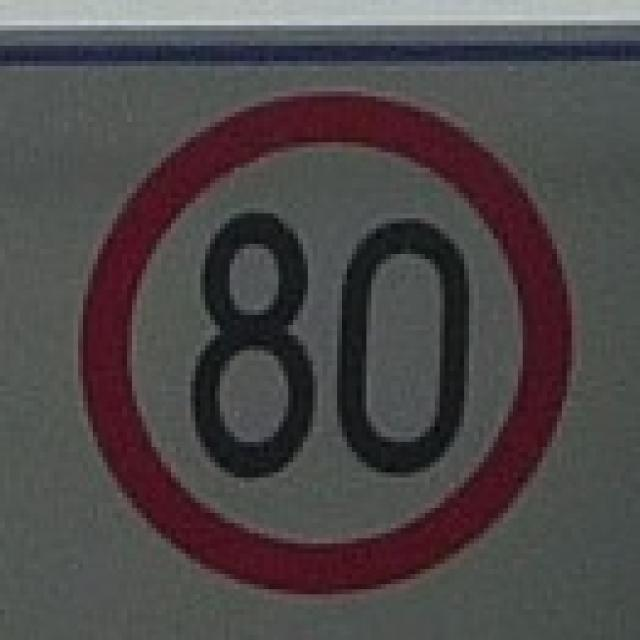Speed Limit -80-: (188, 203, 474, 484)
